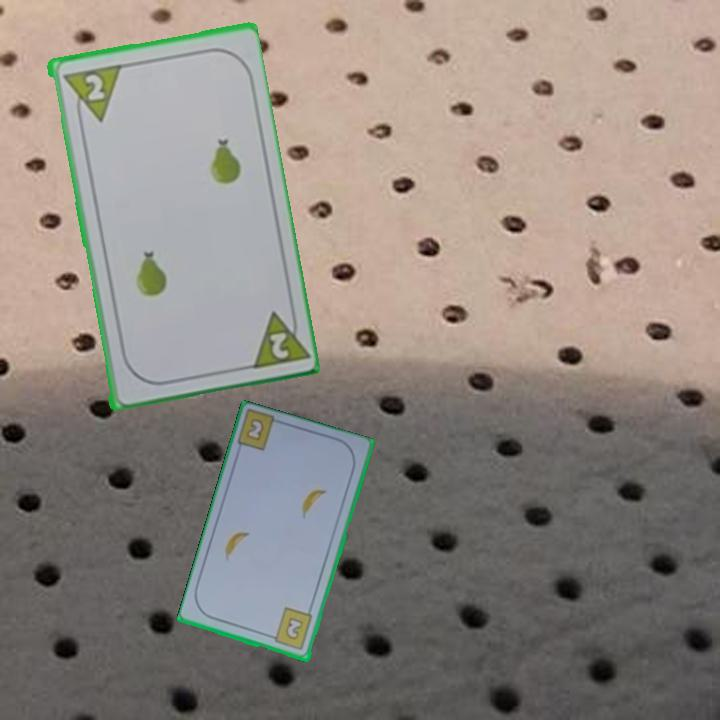2b: (266, 605, 315, 653), (245, 417, 265, 441)
2p: (244, 302, 309, 372), (57, 60, 122, 127)
